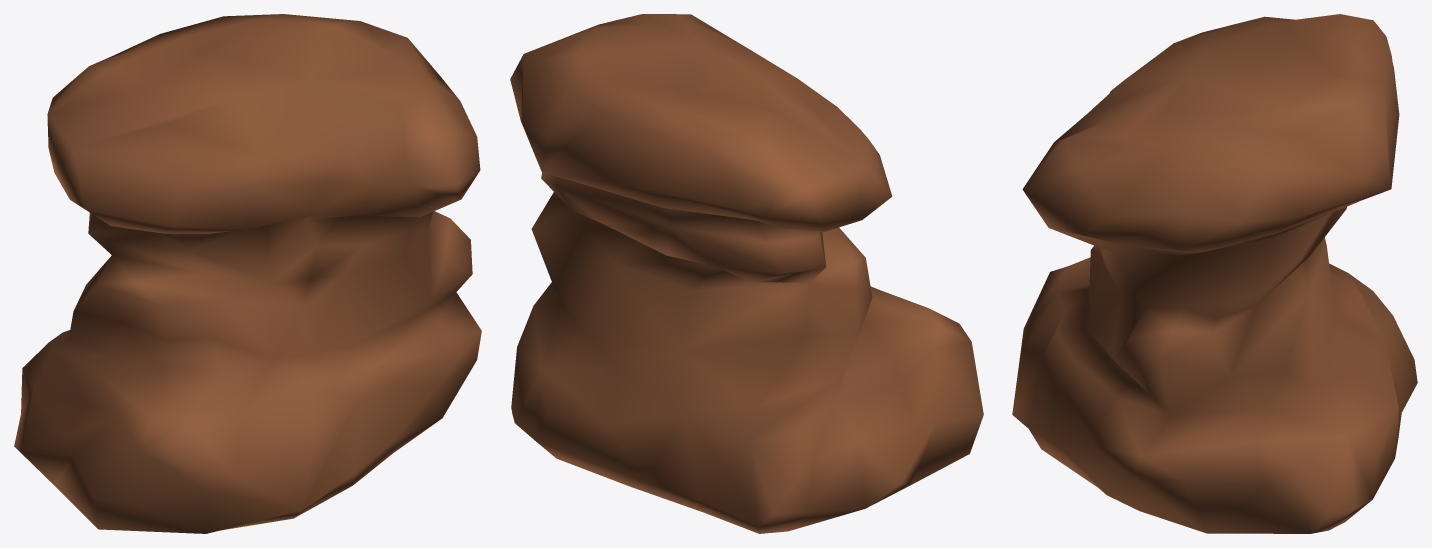
The model's file is Cliffs_4_Desert_Village.fbx.
3 renders of one model, left to right at view 1: azimuth 30°, elevation 25°; view 2: azimuth 150°, elevation 25°; view 3: azimuth 270°, elevation 25°, orthographic. The views are drawn at different scales.
Visible parts, largest first — view 1: Cliffs_4_Desert Village; view 2: Cliffs_4_Desert Village; view 3: Cliffs_4_Desert Village.
Boxes of the visible parts, x1,y1,x2,y2 form: Cliffs_4_Desert Village: (14, 14, 481, 533); Cliffs_4_Desert Village: (510, 14, 983, 533); Cliffs_4_Desert Village: (1012, 14, 1417, 533).
Size of the model in its own units: 910 by 813 by 714.
